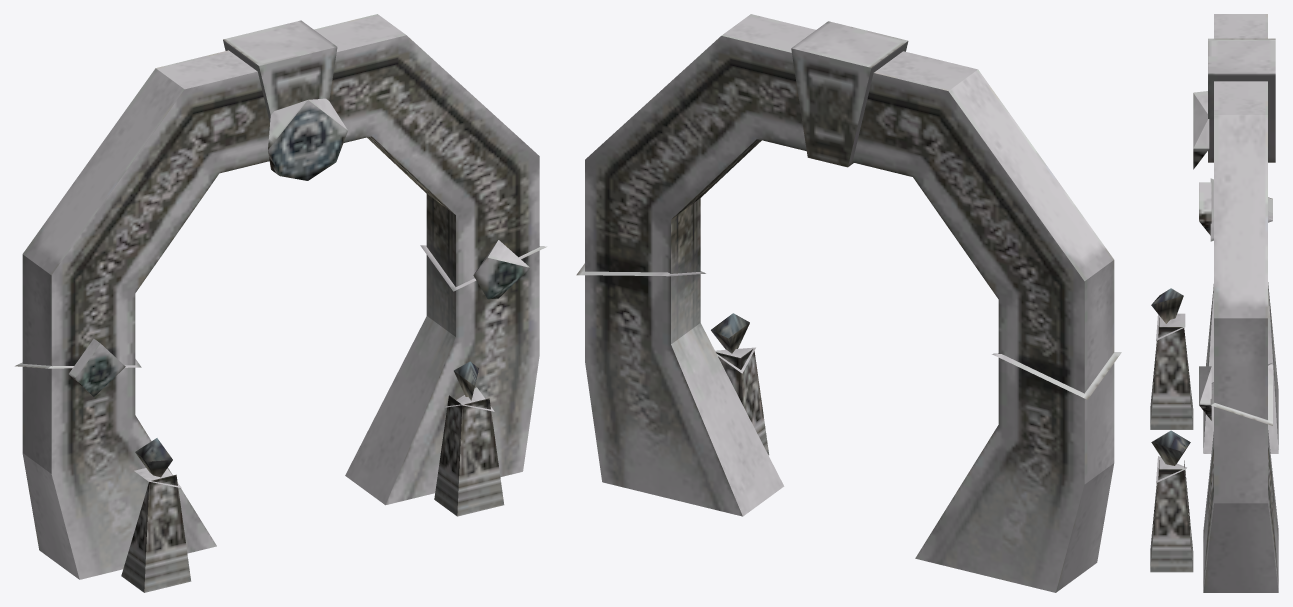
The model's file is warpgate02_lod_01.glb.
3 renders of one model, left to right at view 1: azimuth 30°, elevation 25°; view 2: azimuth 150°, elevation 25°; view 3: azimuth 270°, elevation 25°, orthographic. The views are drawn at different scales.
Visible parts, largest first — view 1: Object01; view 2: Object01; view 3: Object01.
Boxes of the visible parts, x1,y1,x2,y2 form: Object01: (15,14,546,592); Object01: (576,14,1121,592); Object01: (1150,14,1278,592).
Size of the model in its own units: 8.61 by 7.72 by 2.06.
1 material, 1 textured.
